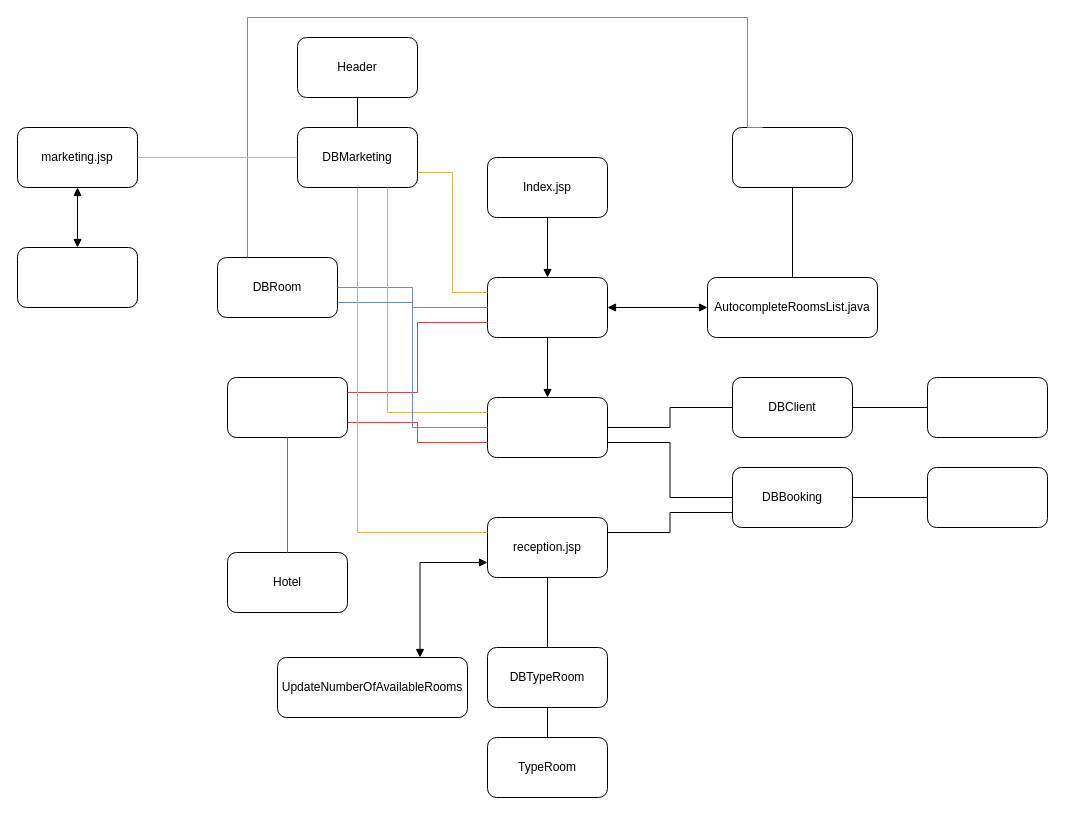
This 1065x815 diagram has some shape labels left out. The shapes that lost their labels are listed below. From the top down, each one's centre as x and y in pixels, then its label:
At [792,157]: "Rooms".
At [77,277]: "UpdateMetaTag".
At [547,307]: "rooms.jsp".
At [287,407]: "DBHotel".
At [547,427]: "reservation.jsp".
At [987,407]: "Client".
At [987,497]: "Booking".
